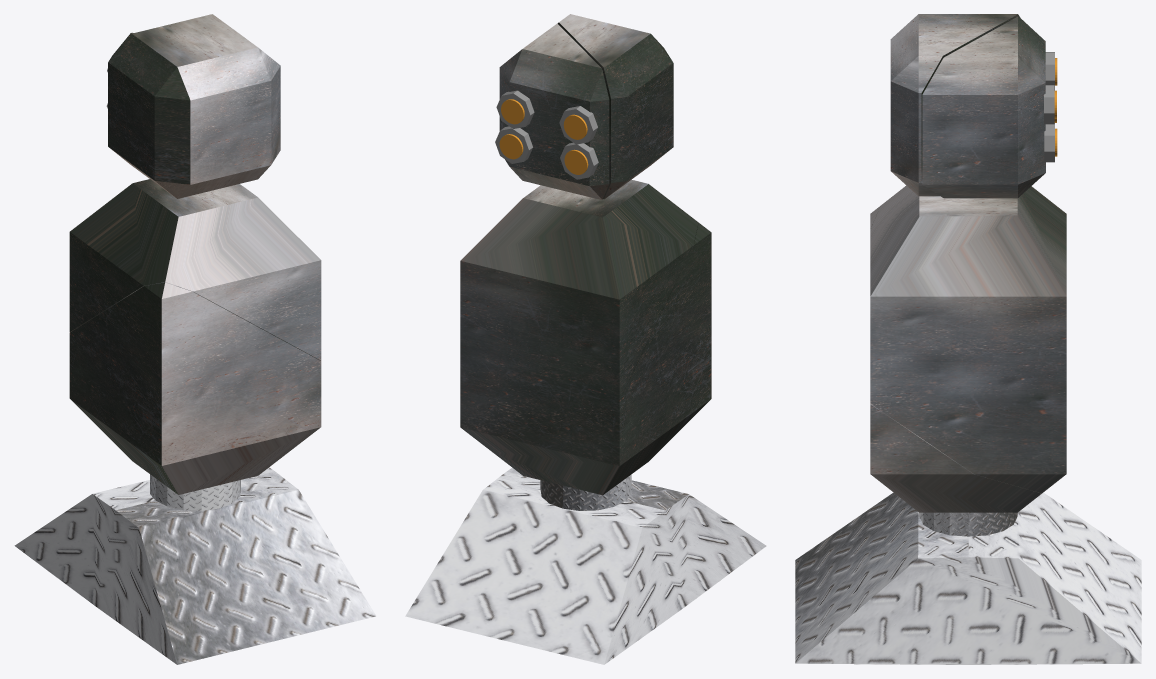
File: WarDogFractured.fbx
3 renders of one model, left to right at view 1: azimuth 30°, elevation 25°; view 2: azimuth 150°, elevation 25°; view 3: azimuth 270°, elevation 25°, orthographic. The views are drawn at different scales.
Parts seen in each view (by area): view 1: Cube.052_cell.001, Cube.052_cell, Cube.063_cell.004, Cube.063_cell.003; view 2: Cube.052_cell.001, Cube.052_cell, Cube.063_cell.003, Cube.063_cell.004; view 3: Cube.052_cell.001, Cube.052_cell, Cube.063_cell.003, Cube.063_cell.004.
Part boxes in pixels (x1,y1,x2,y2): Cube.052_cell.001: (14,282,375,664); Cube.052_cell: (69,179,321,360); Cube.063_cell.004: (108,32,280,198); Cube.063_cell.003: (106,14,245,108); Cube.052_cell.001: (405,222,766,664); Cube.052_cell: (460,179,698,451); Cube.063_cell.003: (495,23,609,199); Cube.063_cell.004: (557,14,673,199); Cube.052_cell.001: (795,206,1141,664); Cube.052_cell: (870,185,1066,493); Cube.063_cell.003: (922,16,1057,198); Cube.063_cell.004: (890,14,1020,196).
Bounding box in the file's own units: 1.5 × 2.12 × 3.9.
